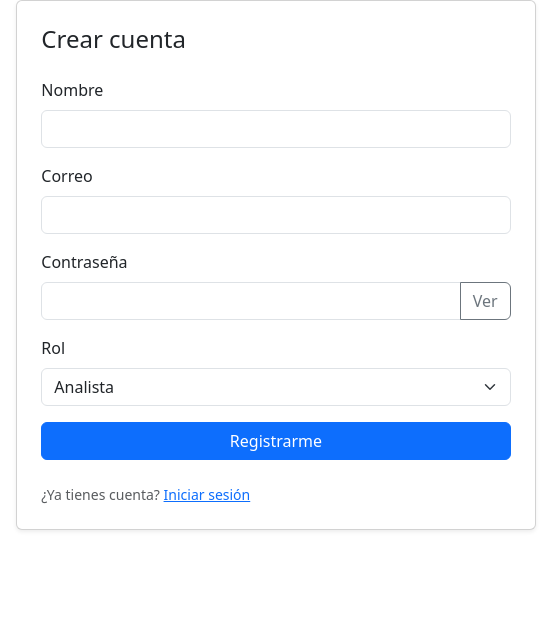
Test: Registro › si el servidor no envía mensaje, muestra uno genérico
In the field labelled "Nombre": (276, 129) 41,110 -> 511,148, type "Eva Nueva"
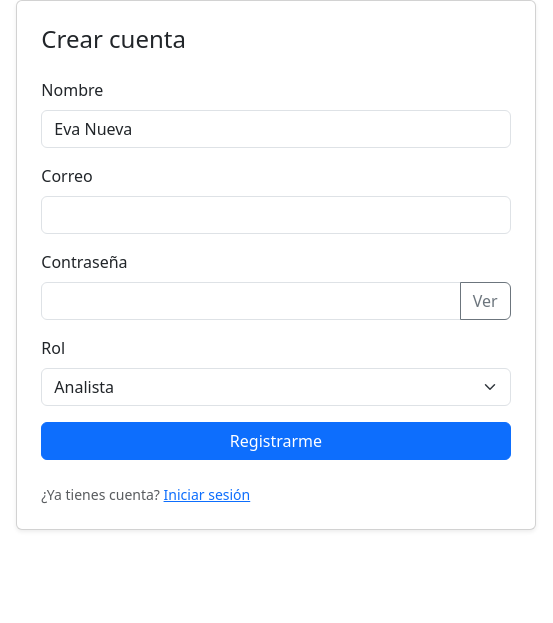
In the field labelled "Correo": (276, 215) 41,196 -> 511,234, type "eva@ejemplo.cl"
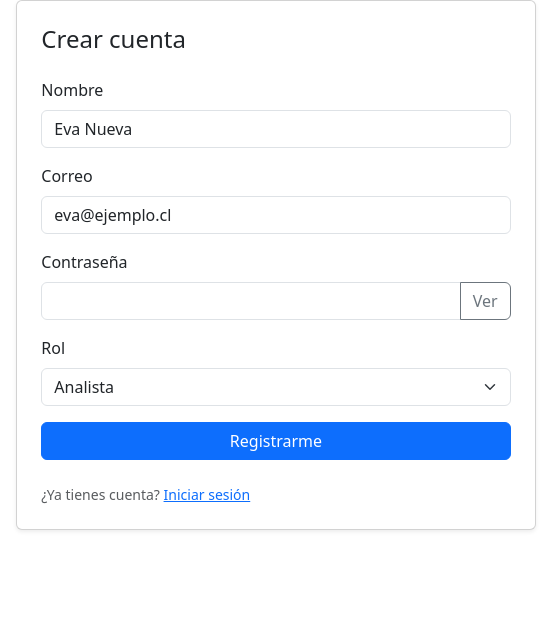
In the password field labelled "Contraseña": (251, 301) 41,282 -> 461,320, type "secreto123"
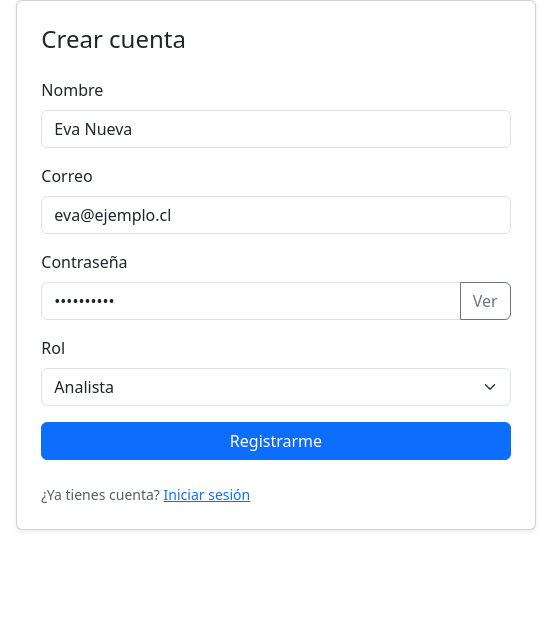
Click the button "Registrarme": (276, 441) 41,422 -> 511,460
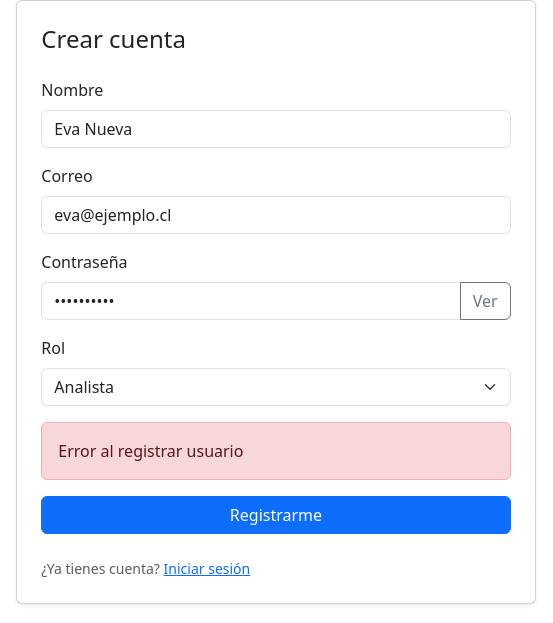
Expected: the text "Error al registrar usuario" is shown, 41,422 -> 511,480
